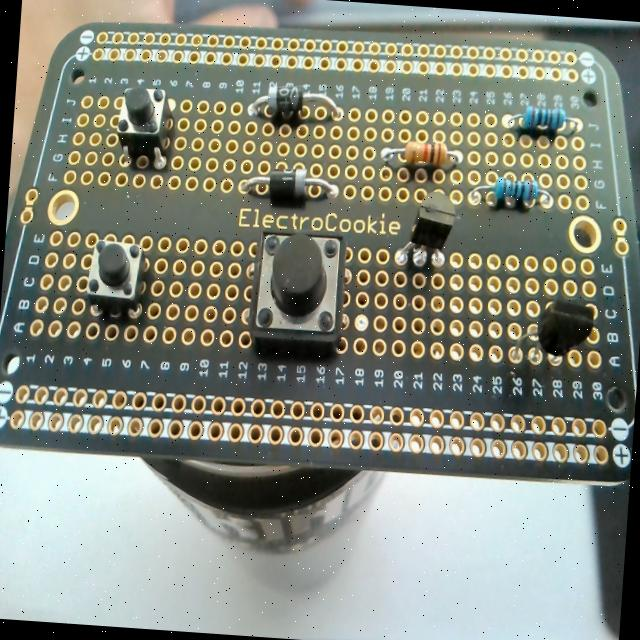diode: (246, 80, 345, 126), (241, 163, 342, 203), (379, 138, 460, 172)
resistor: (492, 176, 538, 208), (519, 103, 566, 133)
switch: (249, 226, 348, 348), (114, 84, 176, 170), (84, 236, 146, 314)
transistor: (510, 294, 596, 366), (394, 188, 458, 270)
